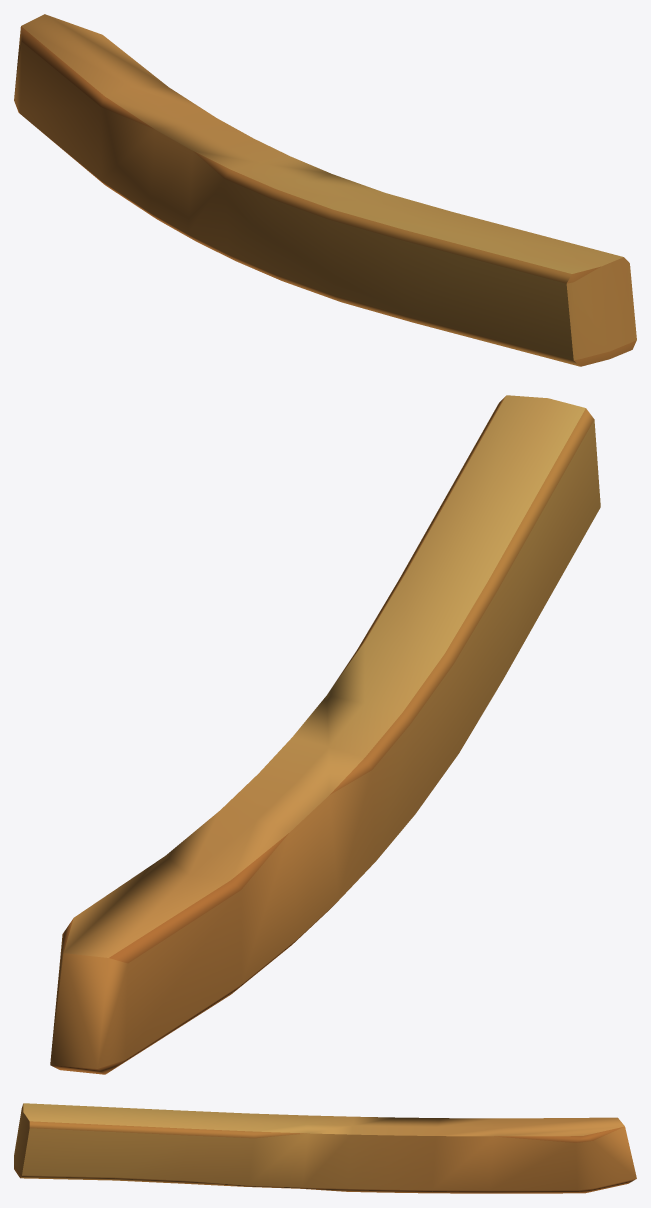
The model's file is consumables-junkfood-frenchfry_v4.glb.
3 views of the same model, one above another, from view 1: azimuth 30°, elevation 25°; view 2: azimuth 150°, elevation 25°; view 3: azimuth 270°, elevation 25° (orthographic). The views are drawn at different scales.
Parts seen in each view (by area): view 1: FrenchFry_v4; view 2: FrenchFry_v4; view 3: FrenchFry_v4.
Part boxes in pixels (bbox=[...]): FrenchFry_v4: bbox=[14, 14, 636, 366]; FrenchFry_v4: bbox=[50, 395, 600, 1074]; FrenchFry_v4: bbox=[14, 1103, 636, 1193].
Bounding box in the file's own units: 0.0189 × 0.0174 × 0.0952.
